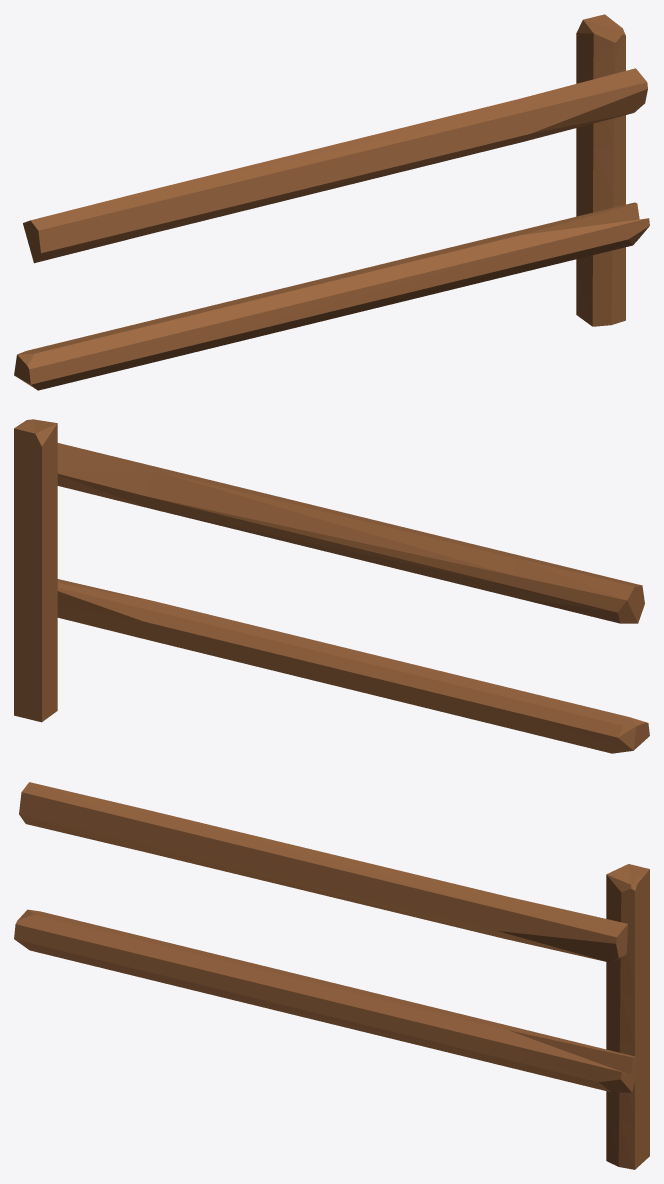
The model's file is CampGround_Fence_02.fbx.
3 renders of one model, top to bottom at view 1: azimuth 30°, elevation 25°; view 2: azimuth 150°, elevation 25°; view 3: azimuth 330°, elevation 25°, orthographic. The views are drawn at different scales.
Visible parts, largest first — view 1: SM_Campground_Fence_02.mo; view 2: SM_Campground_Fence_02.mo; view 3: SM_Campground_Fence_02.mo.
Part boxes in pixels (x1,y1,x2,y2): SM_Campground_Fence_02.mo: (14,14,649,390); SM_Campground_Fence_02.mo: (14,419,649,753); SM_Campground_Fence_02.mo: (14,782,649,1169).
Bounding box in the file's own units: 221 × 100 × 25.15.
